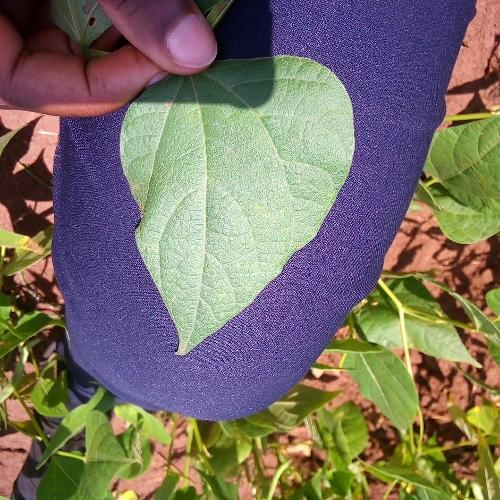sehat: (158, 76, 334, 310)
